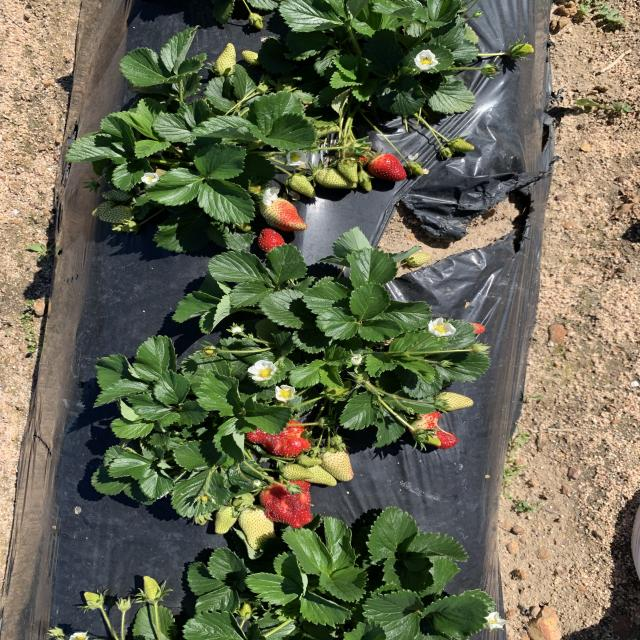unripe: (260, 481, 317, 527), (249, 420, 309, 458), (411, 413, 458, 453), (369, 149, 410, 184), (256, 227, 286, 253)
